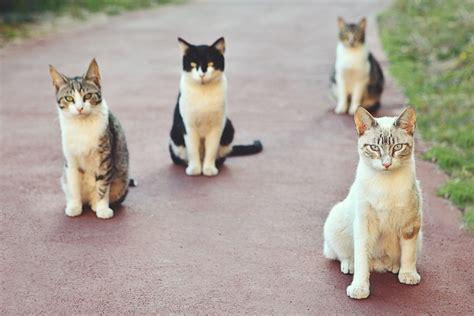cat: (324, 105, 423, 299), (49, 58, 136, 218), (169, 36, 262, 176), (329, 16, 383, 116)
